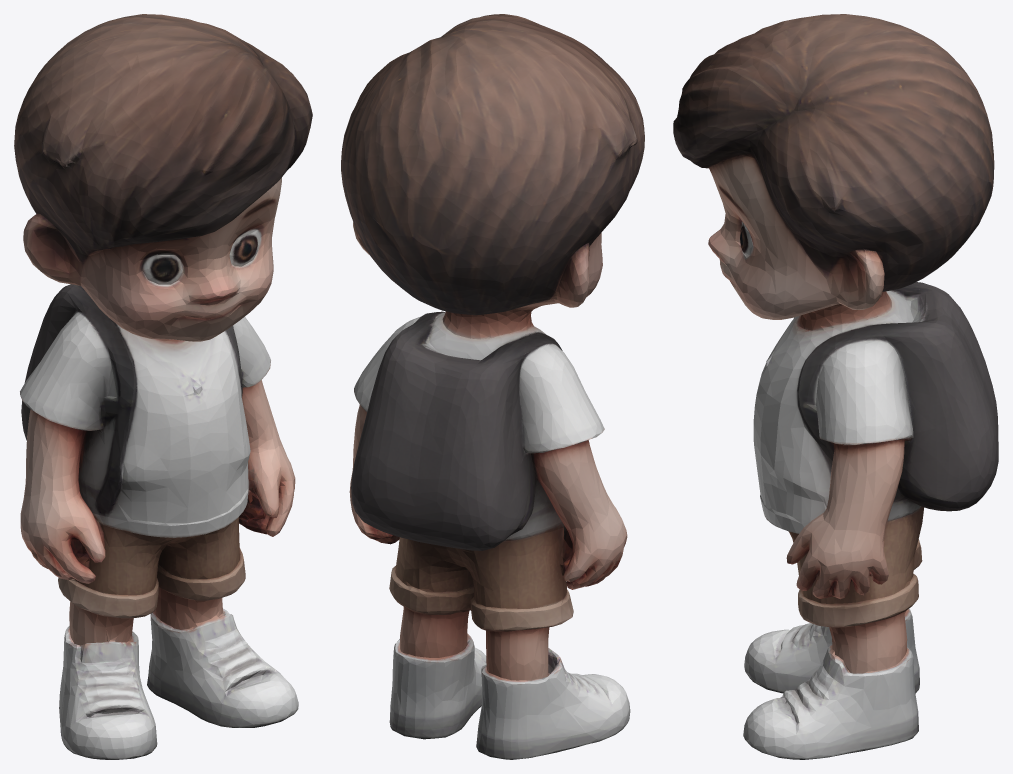
The picture shows the model from 3 angles, left to right: view 1: azimuth 30°, elevation 25°; view 2: azimuth 150°, elevation 25°; view 3: azimuth 270°, elevation 25°; orthographic projection.
Visible parts, largest first — view 1: world; view 2: world; view 3: world.
Boxes of the visible parts, <box> form: world: <box>14,14,312,759</box>; world: <box>341,14,644,759</box>; world: <box>673,14,998,759</box>.
Size of the model in its own units: 0.4213 by 0.999 by 0.4337.
Materials: 1 (1 with a texture image).
